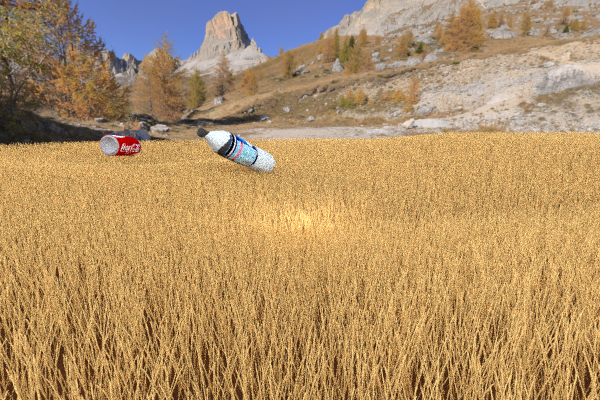Plastic Bottle: (196, 127, 275, 174), (99, 134, 141, 156)
